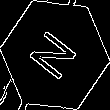N_SE: (25, 24, 85, 86)
